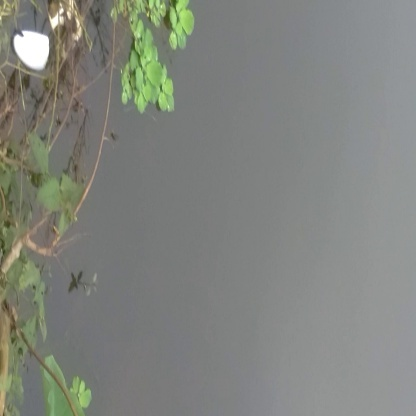leaf: (121, 34, 182, 119)
